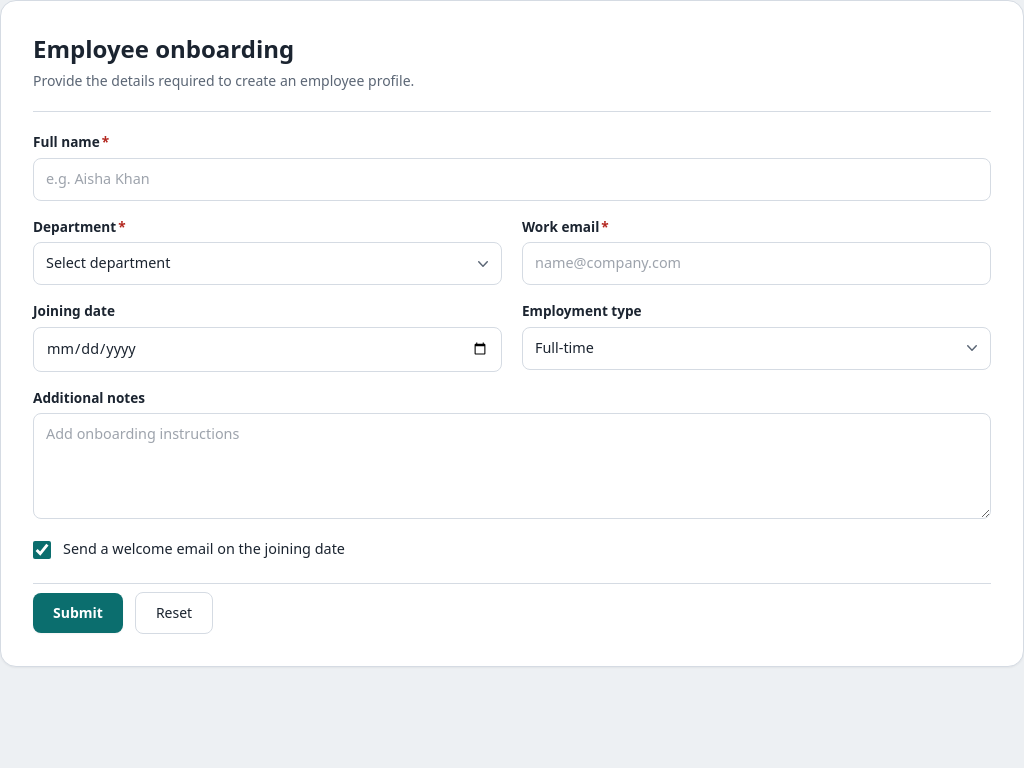
Scenario: FormRenderer: submission › submits typed JSON for a valid full-time hire
This screenshot has width=1024, height=768.
Type "Aisha Khan" into the field labelled "Full name*" at coordinates (512, 179), box x1=33 y1=158 x2=991 y2=201
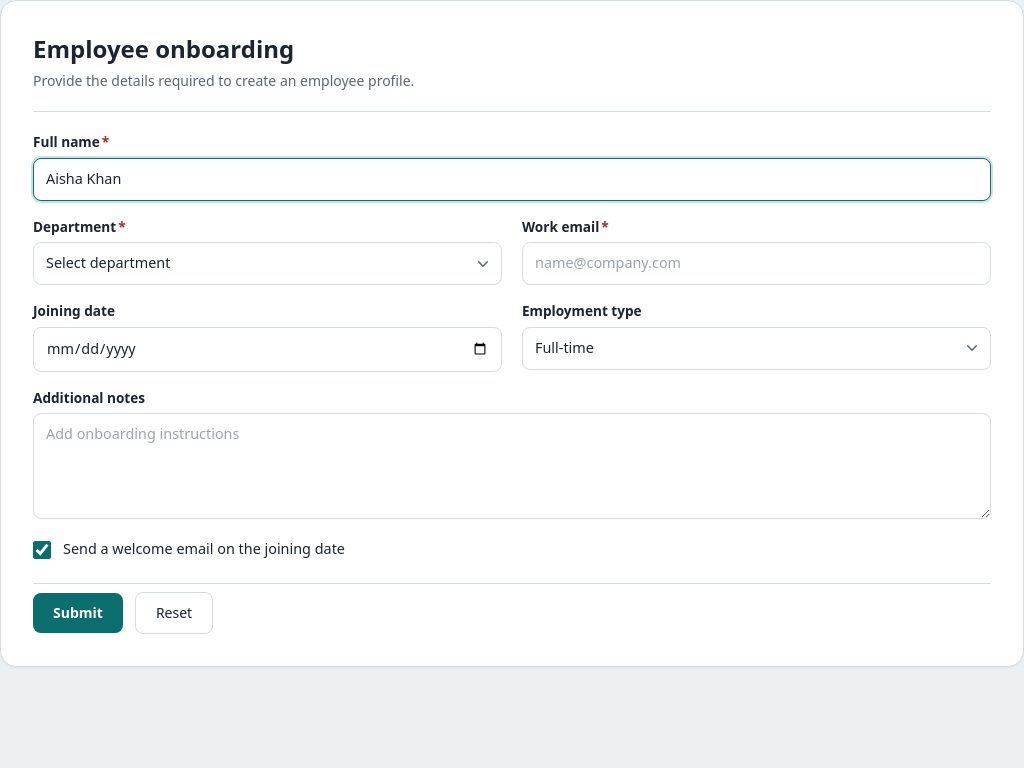
Type "aisha@company.com" into the field labelled "Work email*" at coordinates (756, 264), box x1=522 y1=242 x2=991 y2=285
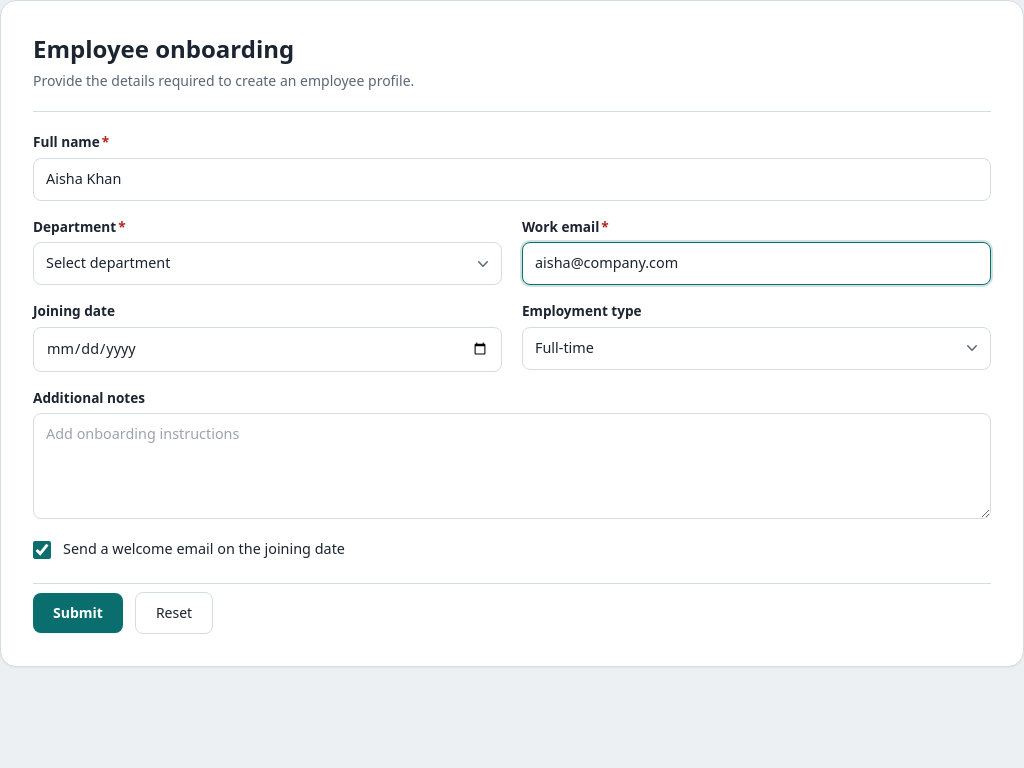
Select "Engineering" in the dropdown labelled "Department*" at coordinates (268, 264), box x1=33 y1=242 x2=502 y2=285
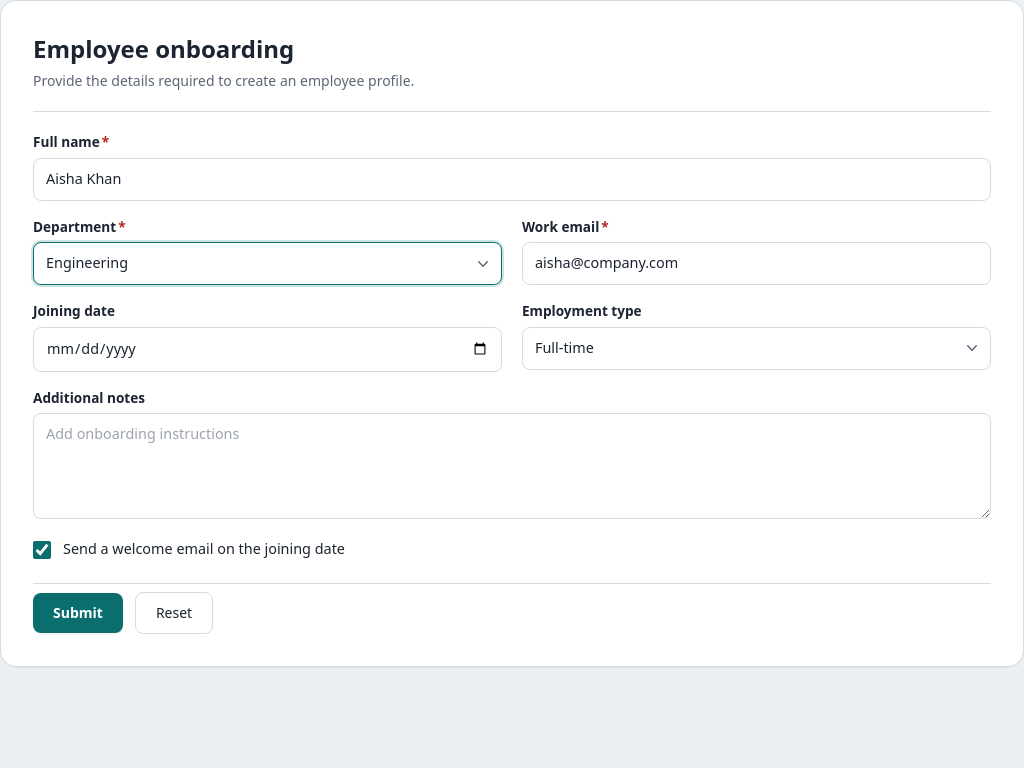
Type "2026-10-05" into the date field labelled "Joining date" at coordinates (268, 349), box x1=33 y1=327 x2=502 y2=372
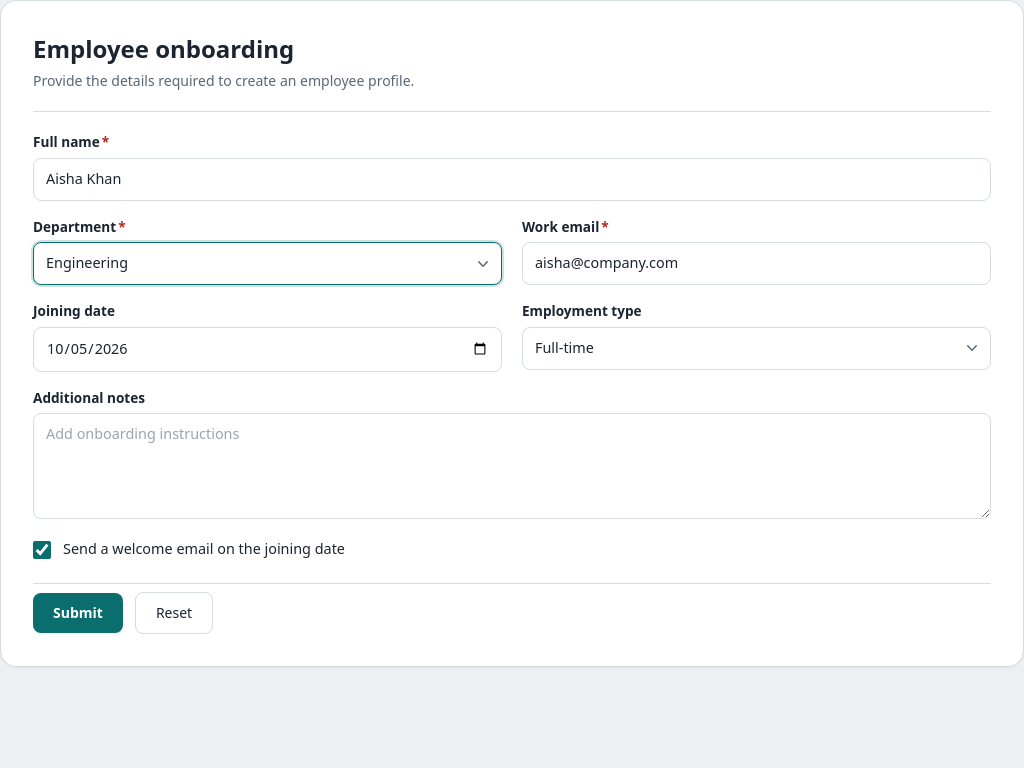
Type "Laptop ready on day one" into the text box labelled "Additional notes" at coordinates (512, 466), box x1=33 y1=413 x2=991 y2=519
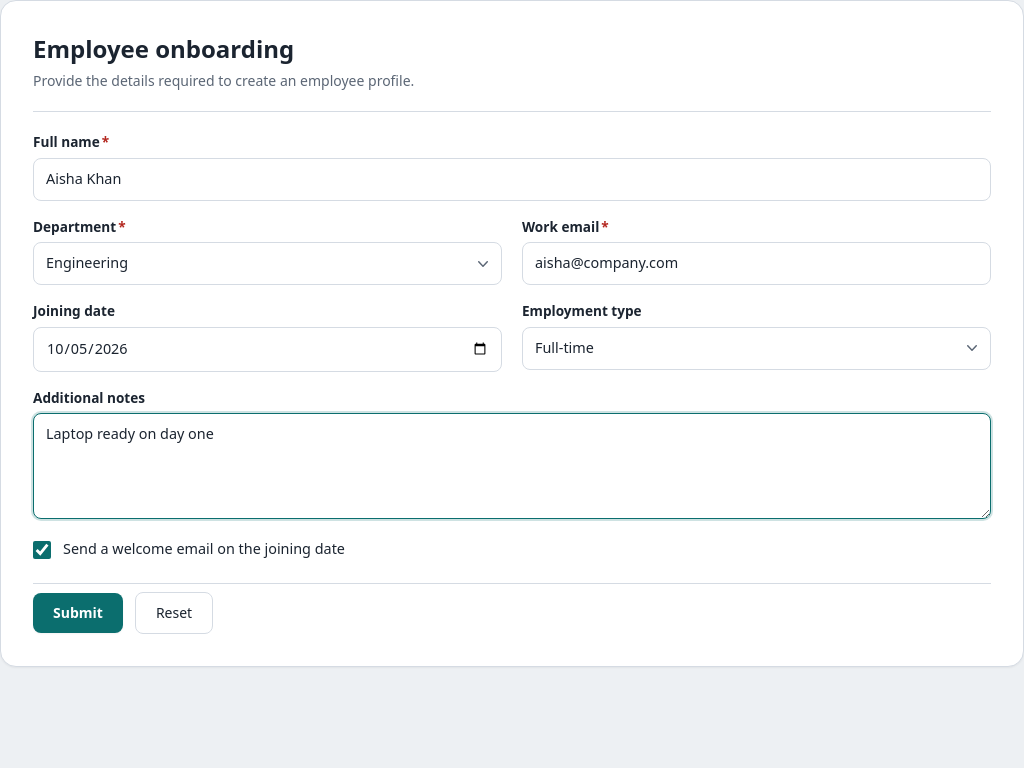
Click the button "Submit" at coordinates (78, 613), box x1=33 y1=593 x2=123 y2=633
(page scrolled)
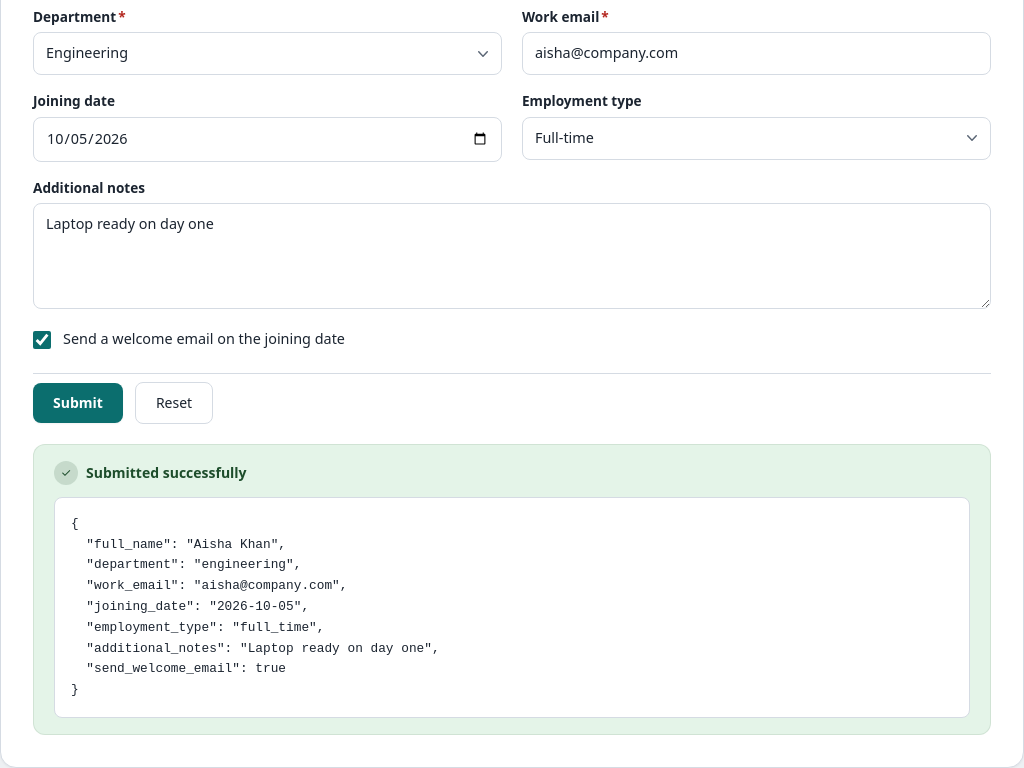
Expected: the text with test id "submission-output" shows "\"full_name\": \"Aisha Khan\"", x1=71 y1=516 x2=440 y2=697
